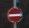No entry: (5, 6, 24, 23)
